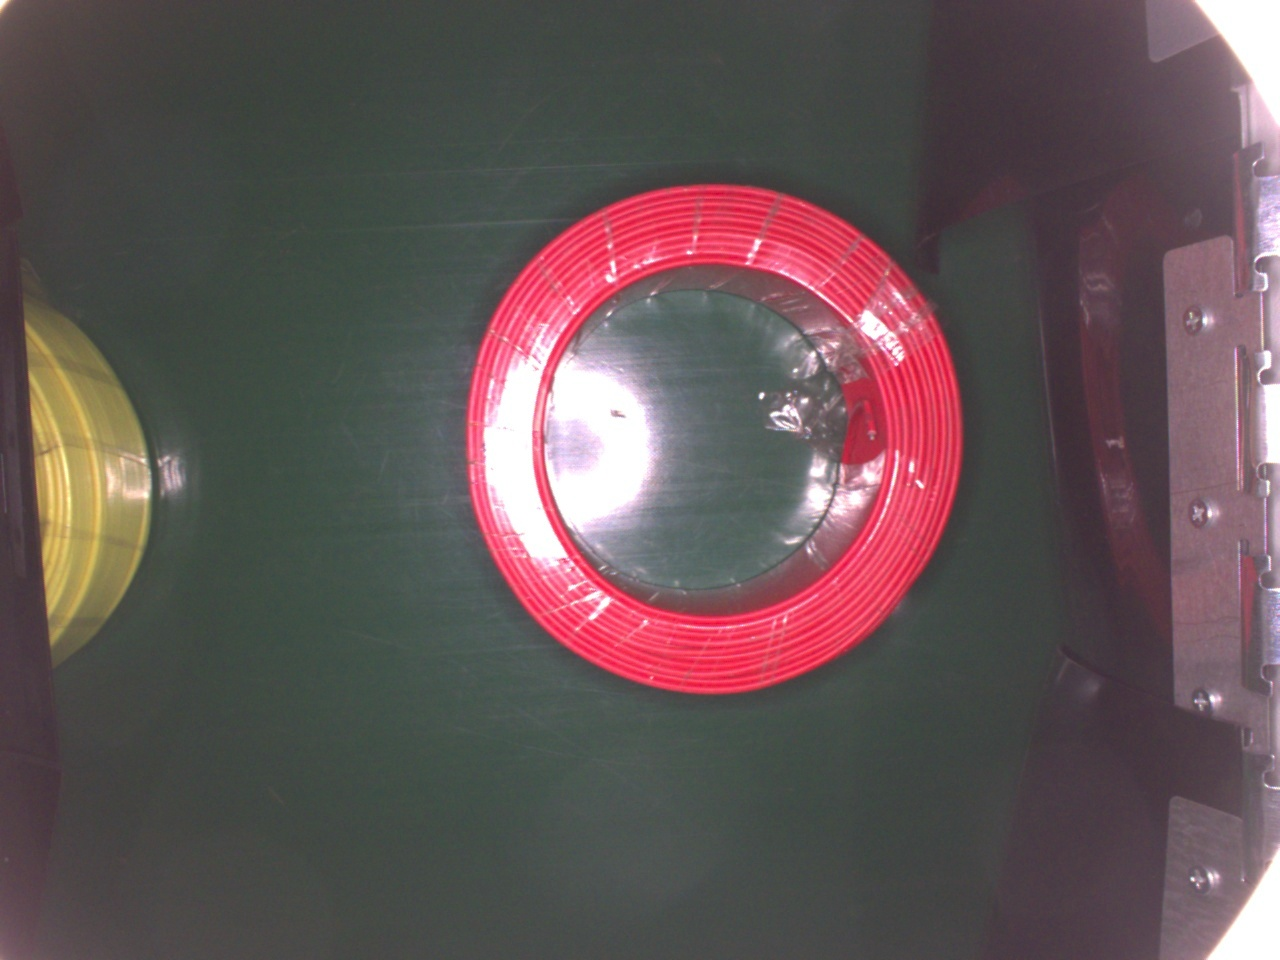red: (464, 179, 967, 697)
yellow: (18, 286, 151, 671)
